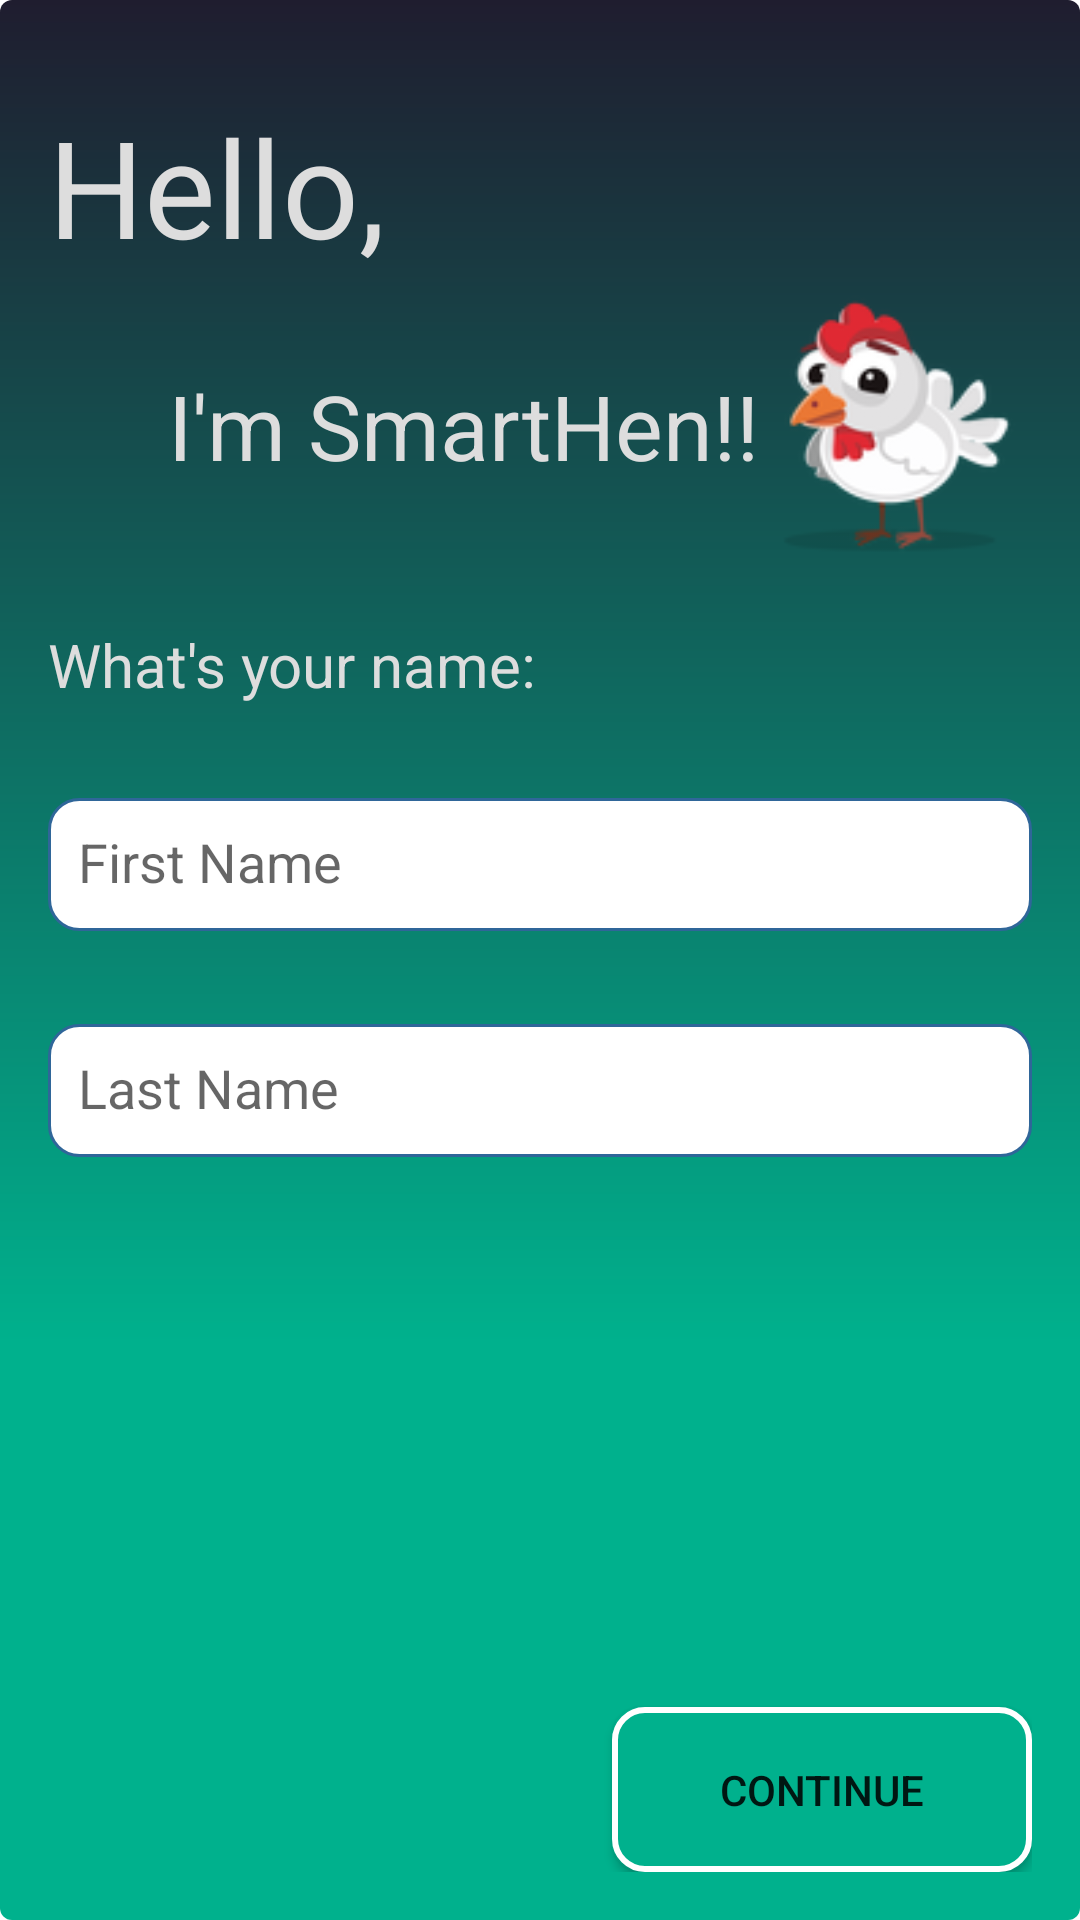

Icons on this 1080*1920 Android screen, each with the point to tap as (x=x, y=y):
smart_hen image: (x=896, y=439)
